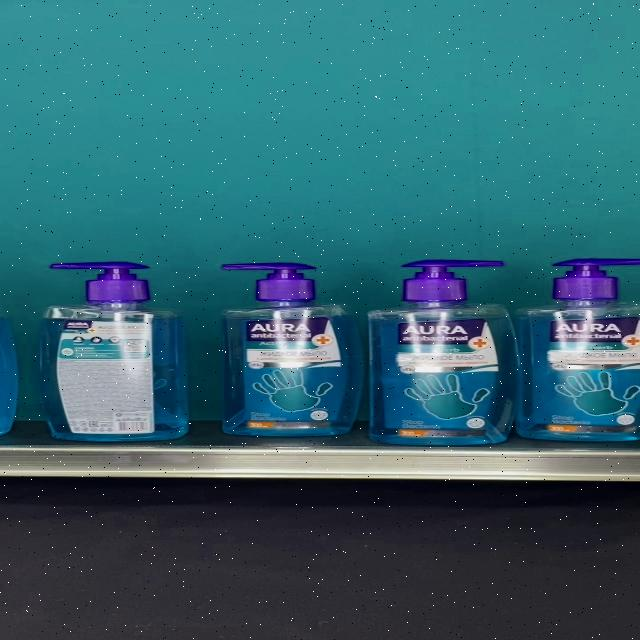Bottle: (369, 260, 519, 445), (38, 263, 188, 441), (221, 263, 364, 436), (515, 257, 640, 442)
Cap: (402, 260, 504, 302), (50, 264, 149, 304), (551, 257, 640, 301), (222, 263, 316, 301)
